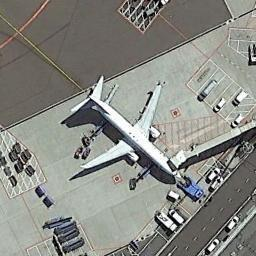Airplane: (62, 76, 184, 182)
